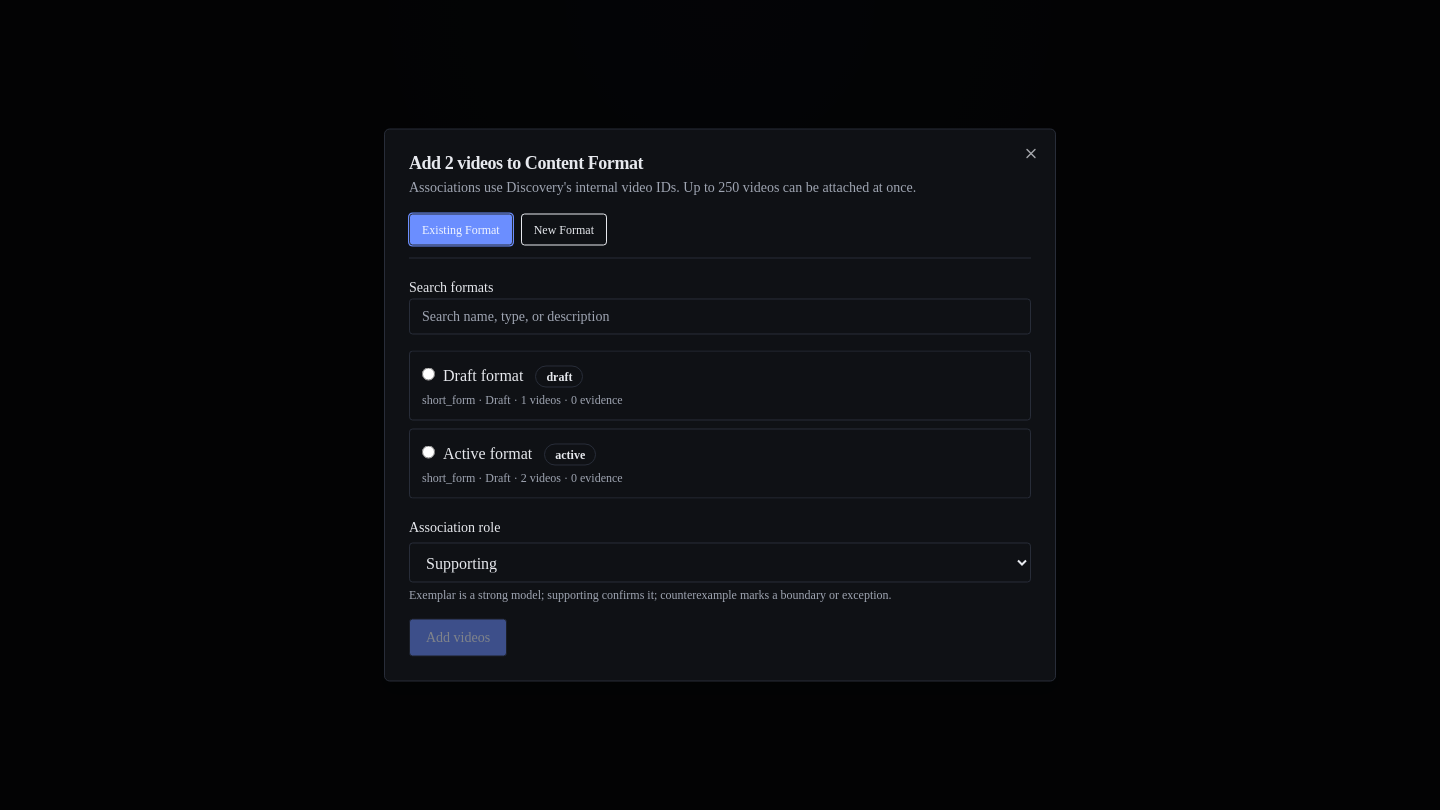
Test: Discovery bulk Content Format dialog › keeps selection available and gives a safe error for API failures
Click the radio button labelled "Draft format".
click(428, 374)  # box [422, 368, 435, 380]
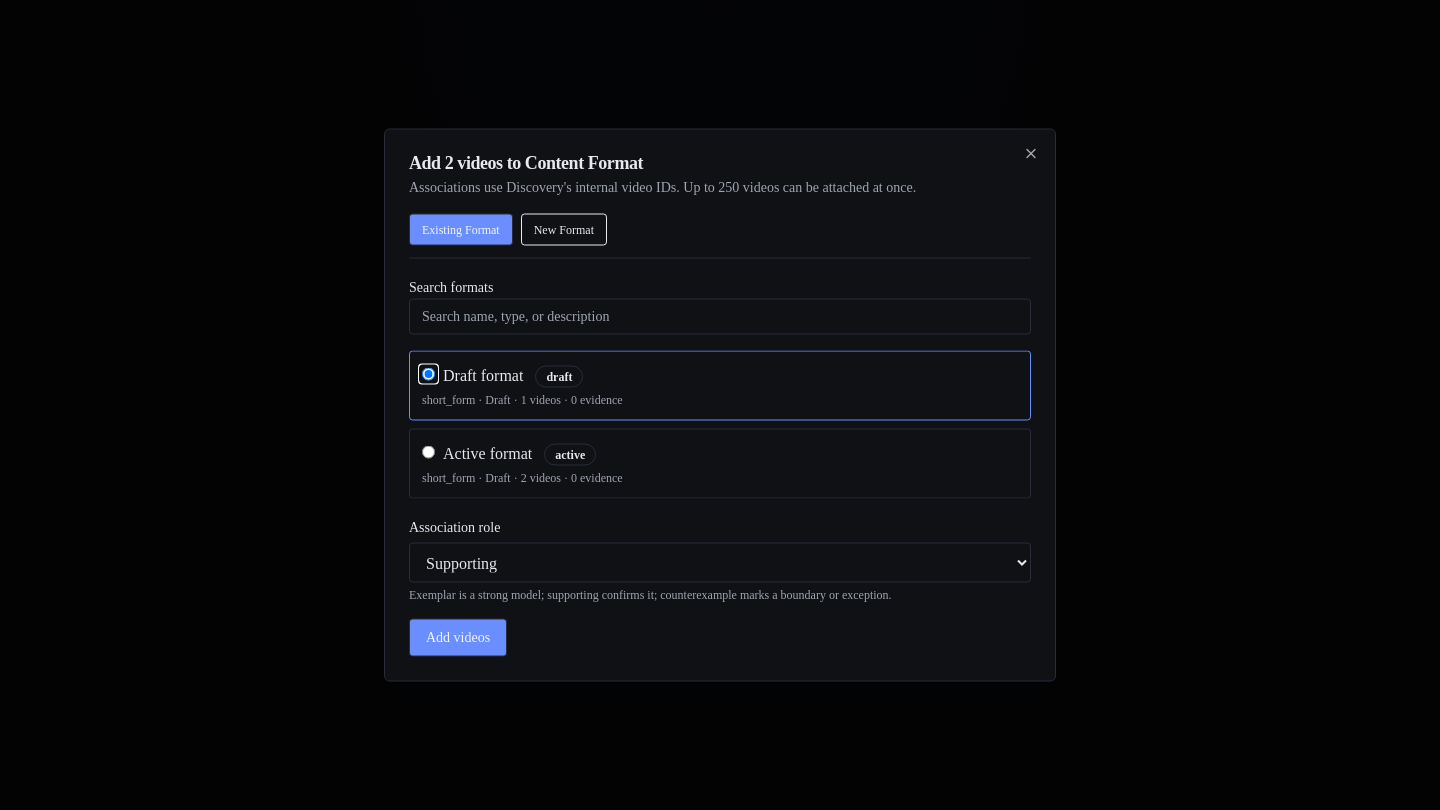
Click the button "Add videos".
click(458, 638)  # box [409, 618, 507, 656]
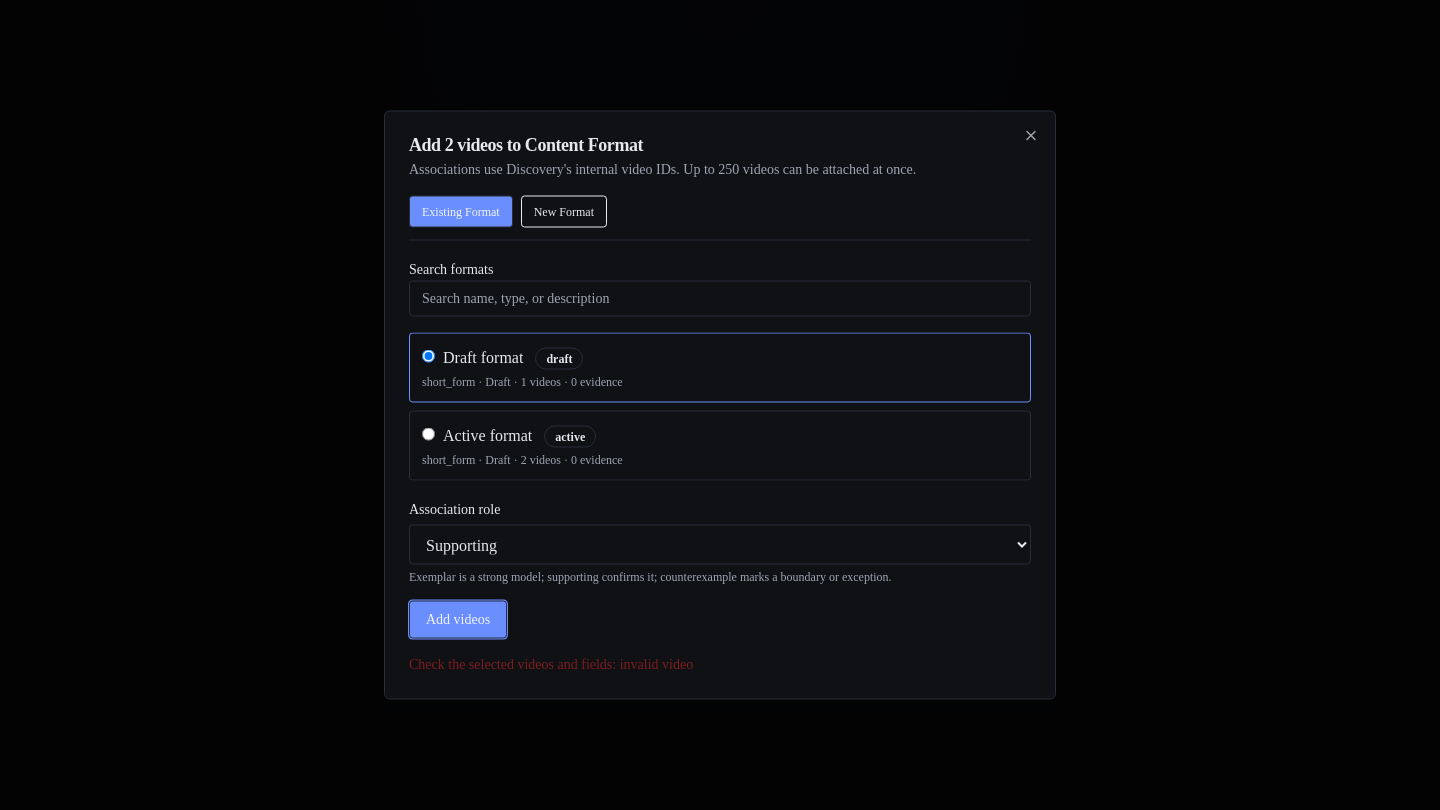
Expected: the heading "Add 2 videos to Content Format" is shown, [409, 134, 643, 154]
Expected: the message shows "Check the selected videos and fields", [409, 656, 693, 672]
